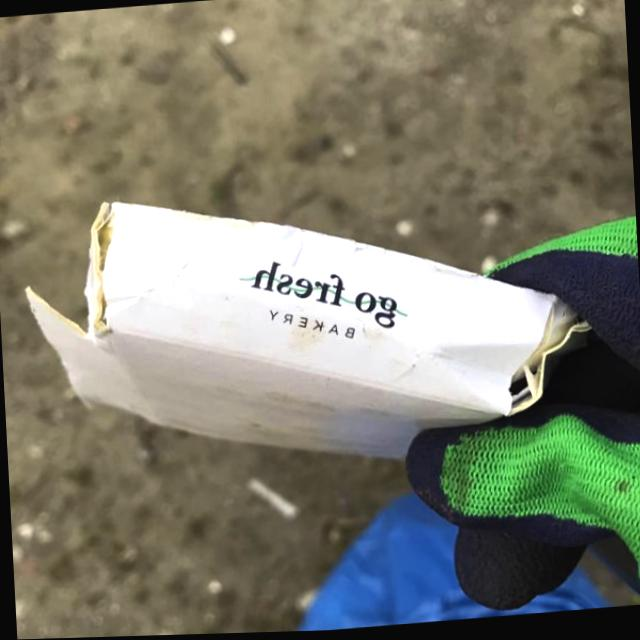Paper: (14, 159, 602, 494)
